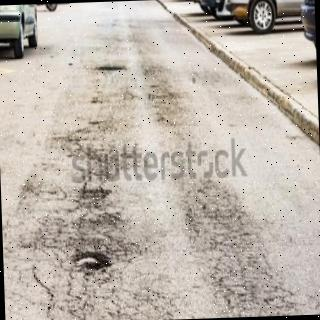pothole: (70, 250, 114, 275)
